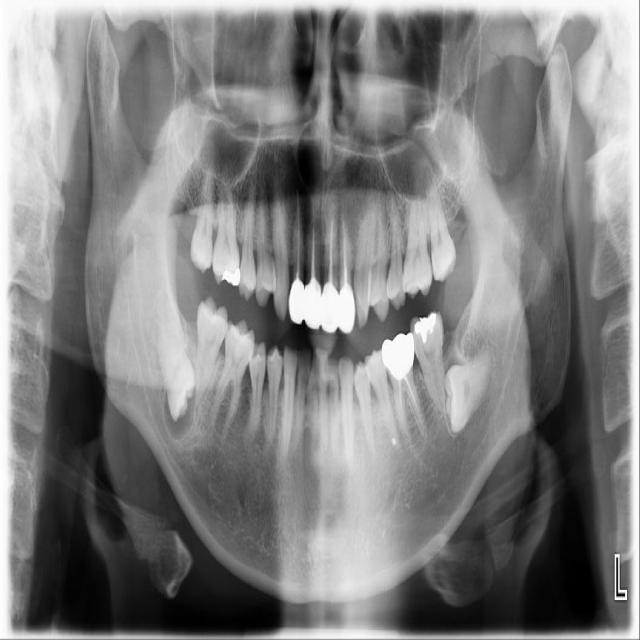52: (283, 272, 362, 339), (405, 307, 449, 358), (380, 332, 416, 379), (211, 236, 241, 288)
73: (388, 367, 430, 449), (323, 187, 339, 285), (305, 187, 321, 278), (336, 193, 352, 282), (292, 185, 305, 280), (582, 577, 588, 588)
BioHorizons Implant: (422, 162, 459, 282)
Biomet 3i Implant: (420, 334, 510, 436)
Blue Sky Bio Implant: (409, 308, 449, 421)
Caries: (189, 151, 215, 274)
Implant: (190, 295, 230, 408)
Keystone Dental Implant: (144, 305, 206, 423)
